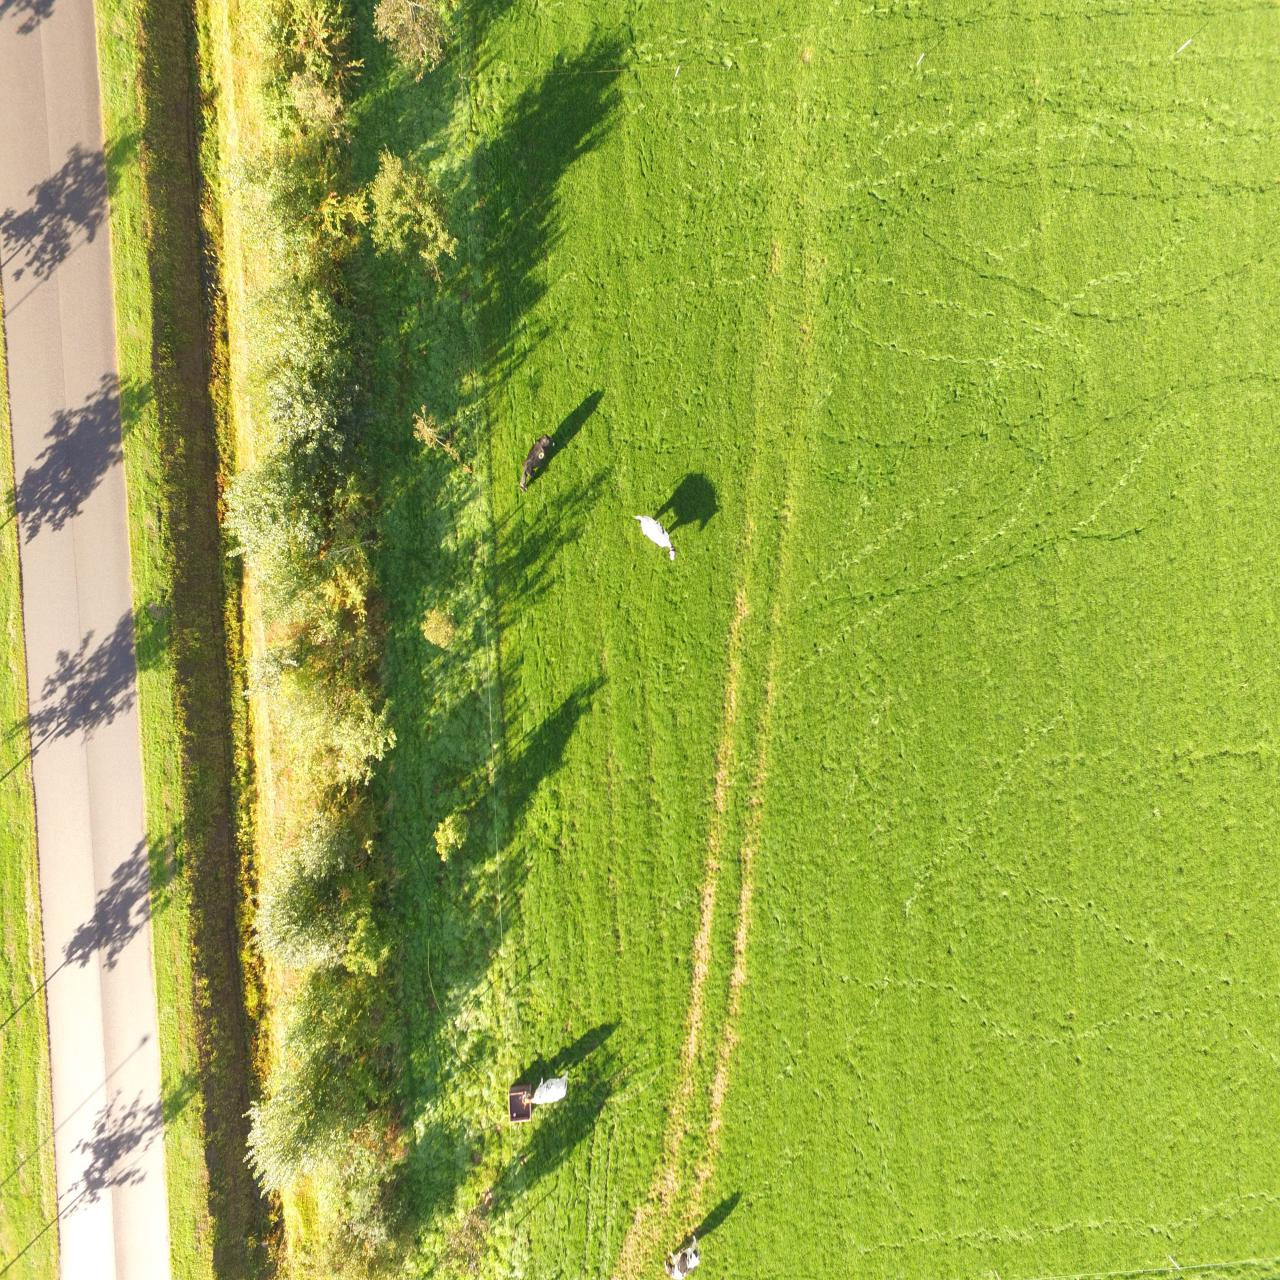cow: (629, 509, 681, 563), (513, 1065, 568, 1111), (518, 430, 558, 492), (660, 1234, 699, 1275)
